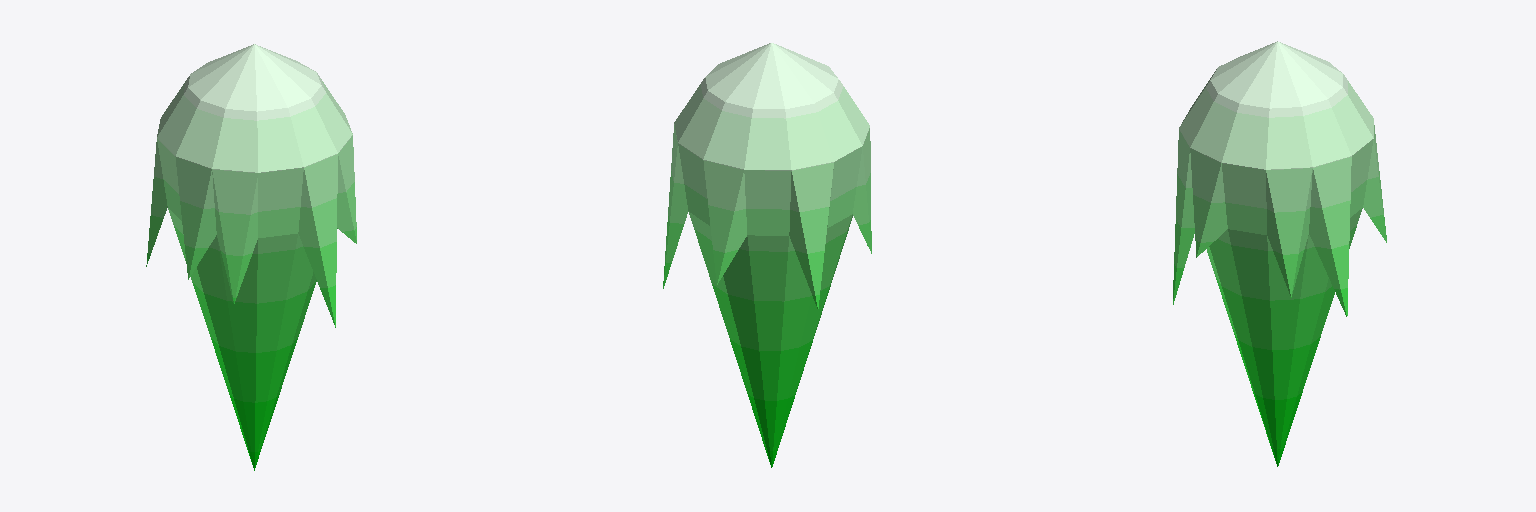
The picture shows the model from 3 angles: view 1: azimuth 30°, elevation 25°; view 2: azimuth 150°, elevation 25°; view 3: azimuth 270°, elevation 25°; orthographic projection.
Parts seen in each view (by area): view 1: Cone; view 2: Cone; view 3: Cone.
Part boxes in pixels (bbox=[...]): Cone: bbox=[146, 44, 356, 470]; Cone: bbox=[663, 43, 871, 467]; Cone: bbox=[1173, 41, 1386, 466].
Size of the model in its own units: 1.44 by 3.35 by 1.53.
1 materials, 1 textured.